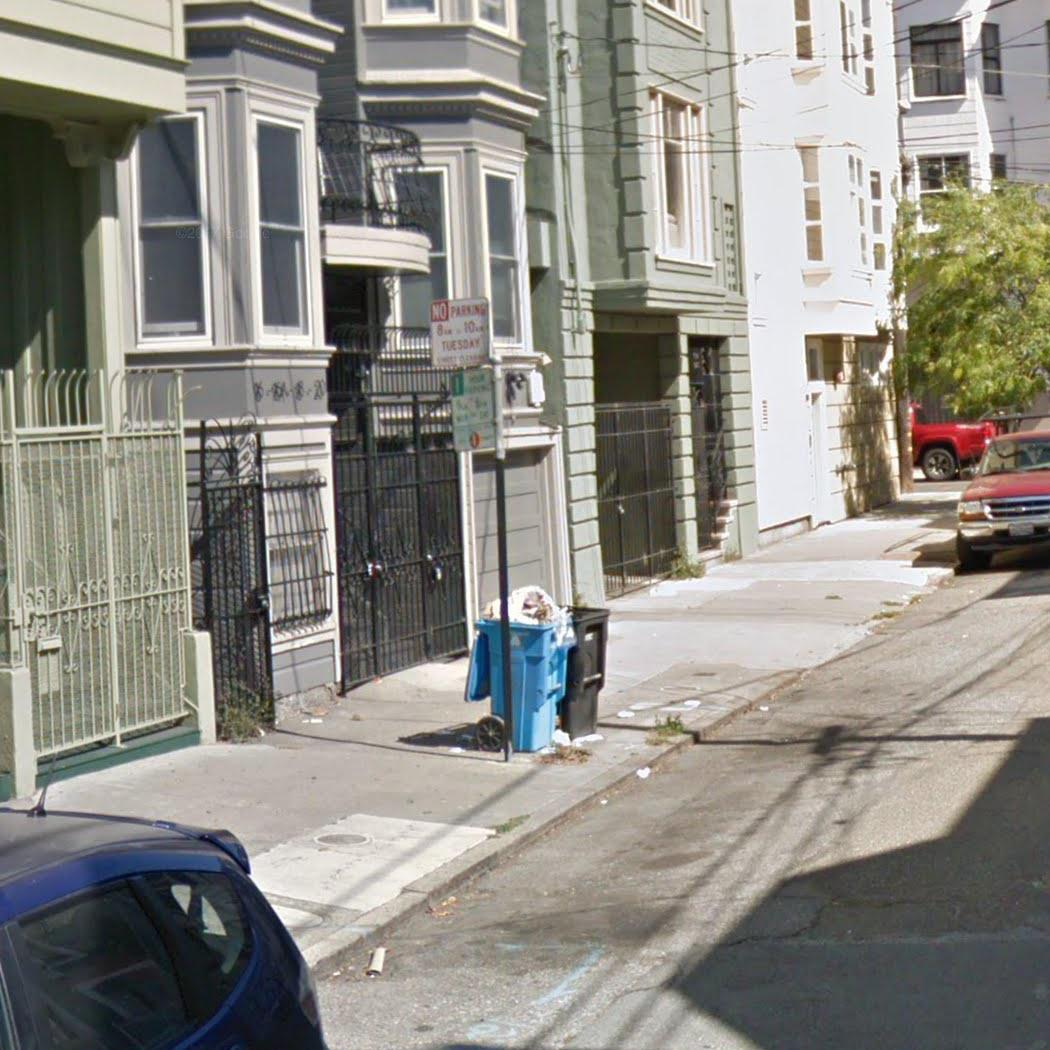1 Hour Parking: (447, 370, 500, 453)
No Parking: (426, 295, 494, 371)
